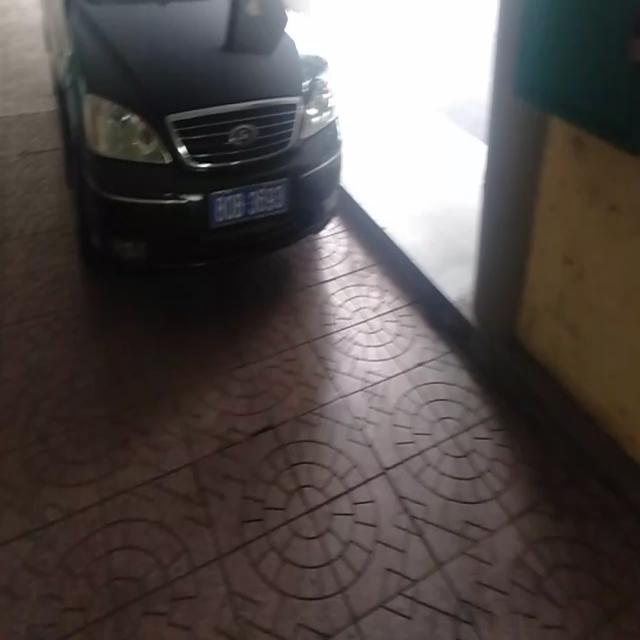bien_xanh: (214, 173, 292, 226)
